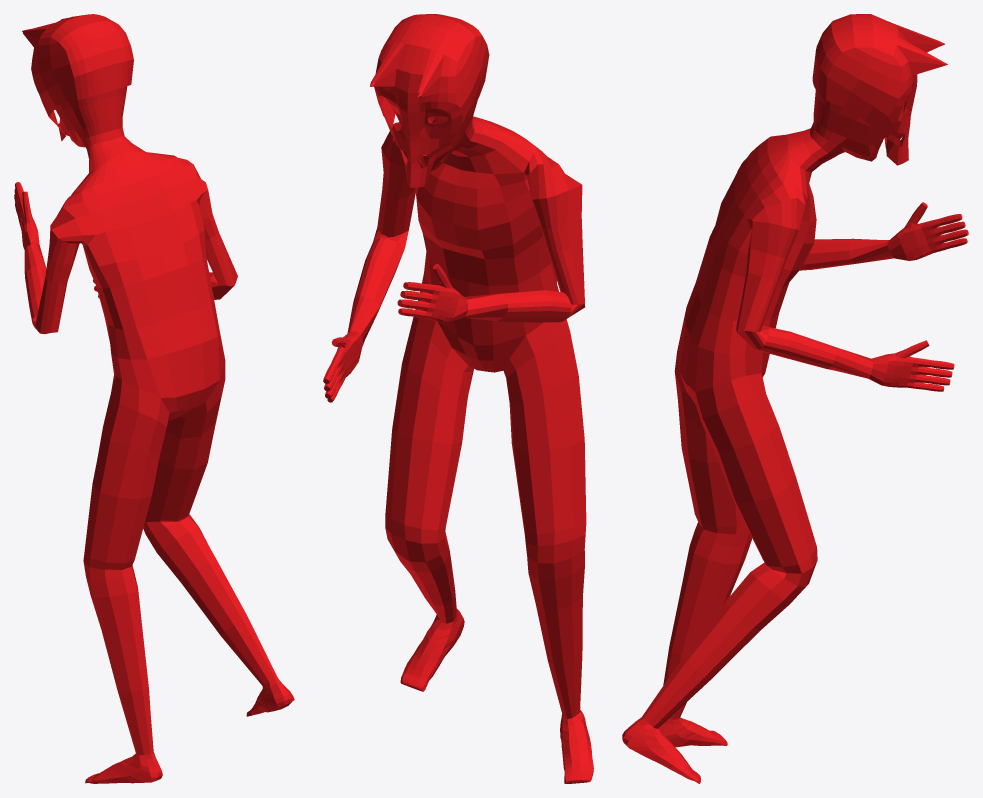
Rendered from correrE_000095.obj.
3 views of the same model, side by side, from view 1: azimuth 30°, elevation 25°; view 2: azimuth 150°, elevation 25°; view 3: azimuth 270°, elevation 25° (orthographic). The views are drawn at different scales.
Parts seen in each view (by area): view 1: Plane.002_Plane.001; view 2: Plane.002_Plane.001; view 3: Plane.002_Plane.001.
Part boxes in pixels (box(x1,y1,x2,y2)): Plane.002_Plane.001: box(14, 14, 294, 783); Plane.002_Plane.001: box(323, 14, 593, 783); Plane.002_Plane.001: box(622, 14, 968, 783).
Bounding box in the file's own units: 2.01 × 6.79 × 2.84.
